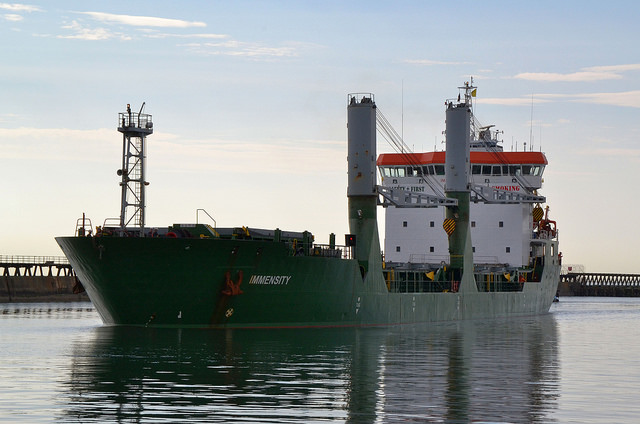bulk carrier: (56, 91, 565, 322)
